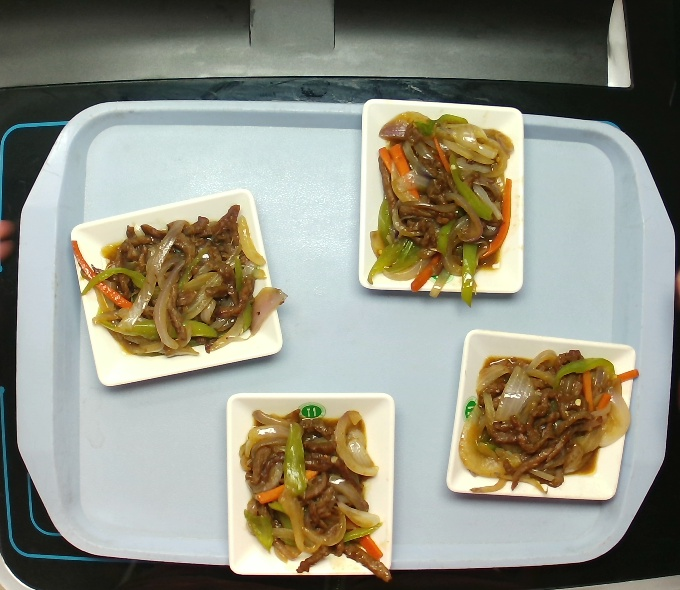wcq-NiuYangCongNiuLiu: (221, 395, 401, 579), (79, 199, 274, 358), (364, 113, 512, 300), (460, 343, 627, 489)
